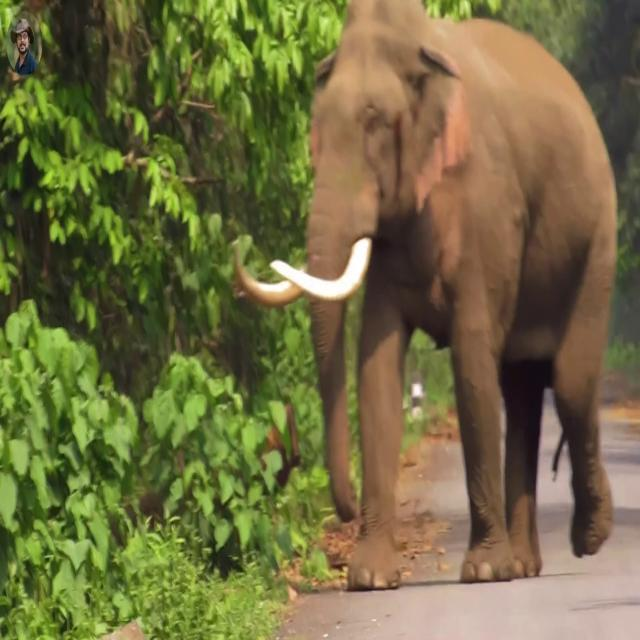Elephant: (232, 0, 619, 591)
